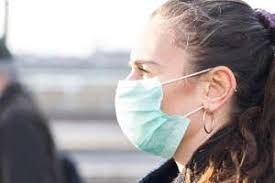with-mask: (111, 4, 241, 158)
